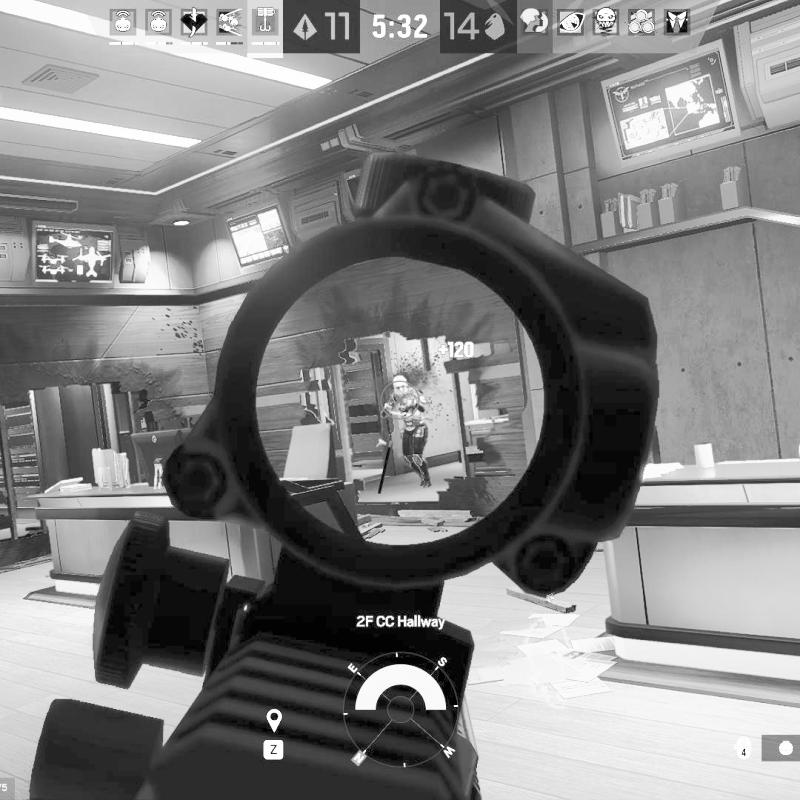Character: (382, 373, 432, 489)
Head: (393, 374, 409, 394)
